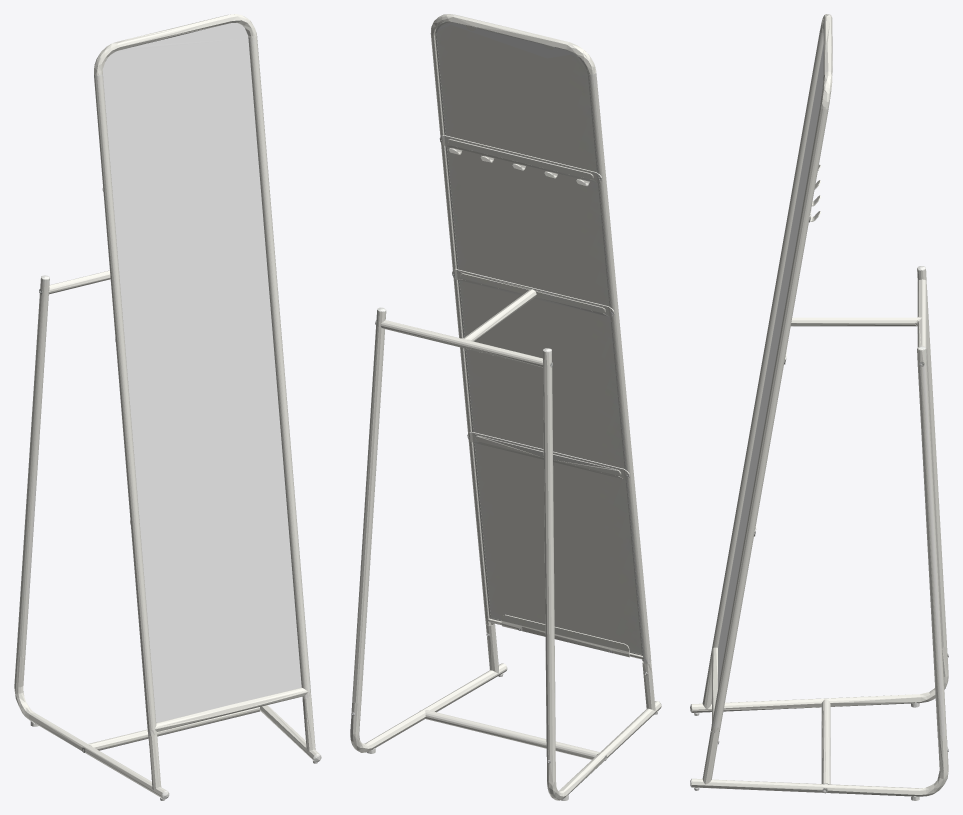
3 renders of one model, left to right at view 1: azimuth 30°, elevation 25°; view 2: azimuth 150°, elevation 25°; view 3: azimuth 270°, elevation 25°, orthographic.
Visible parts, largest first — view 1: f7be0ca4-de82-4da2-a128-2c308a0dd2b5, 1; view 2: 1, f7be0ca4-de82-4da2-a128-2c308a0dd2b5; view 3: 1, f7be0ca4-de82-4da2-a128-2c308a0dd2b5.
Part boxes in pixels (left/top/right/bottom): f7be0ca4-de82-4da2-a128-2c308a0dd2b5: left=103, top=23, right=301, bottom=722; 1: left=14, top=14, right=321, bottom=800; 1: left=350, top=14, right=661, bottom=800; f7be0ca4-de82-4da2-a128-2c308a0dd2b5: left=437, top=22, right=575, bottom=58; 1: left=690, top=14, right=948, bottom=800; f7be0ca4-de82-4da2-a128-2c308a0dd2b5: left=718, top=45, right=823, bottom=687.
Size of the model in its own units: 0.4799 by 1.6 by 0.5299.
Materials: 2 (2 with a texture image).
